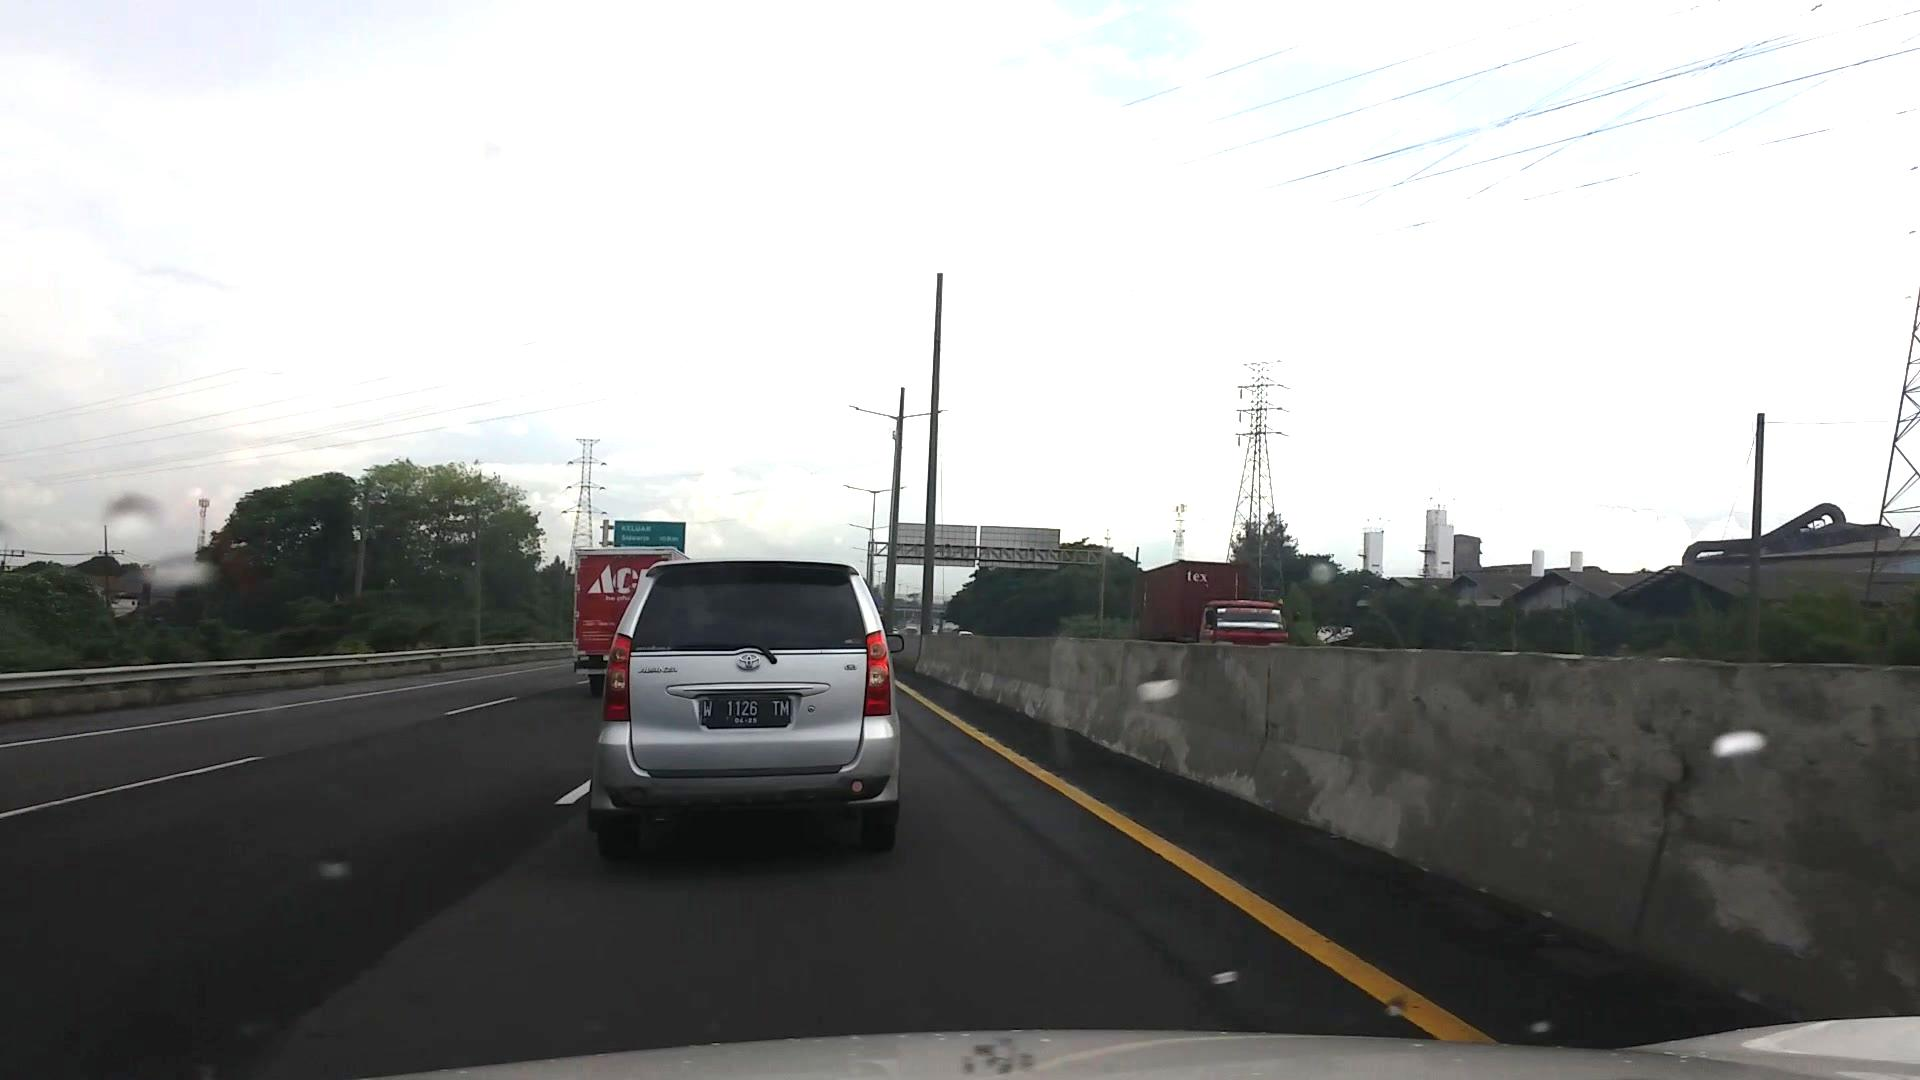plate_positive: (699, 698, 793, 728)
